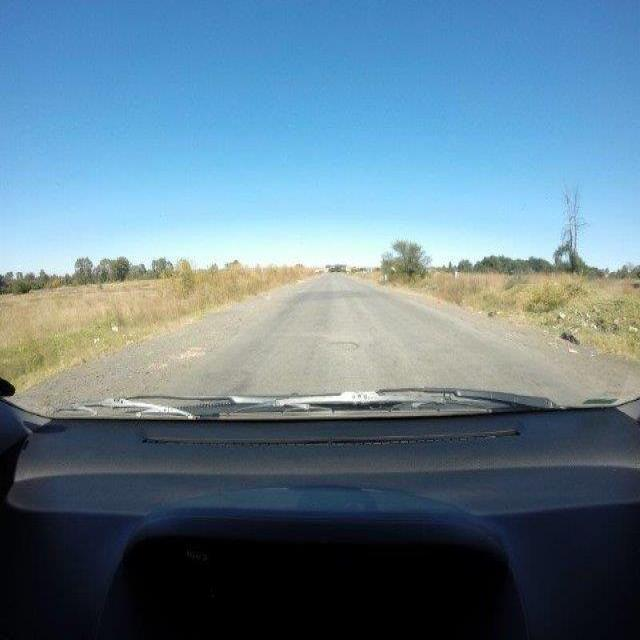lubang: (327, 332, 362, 352)
